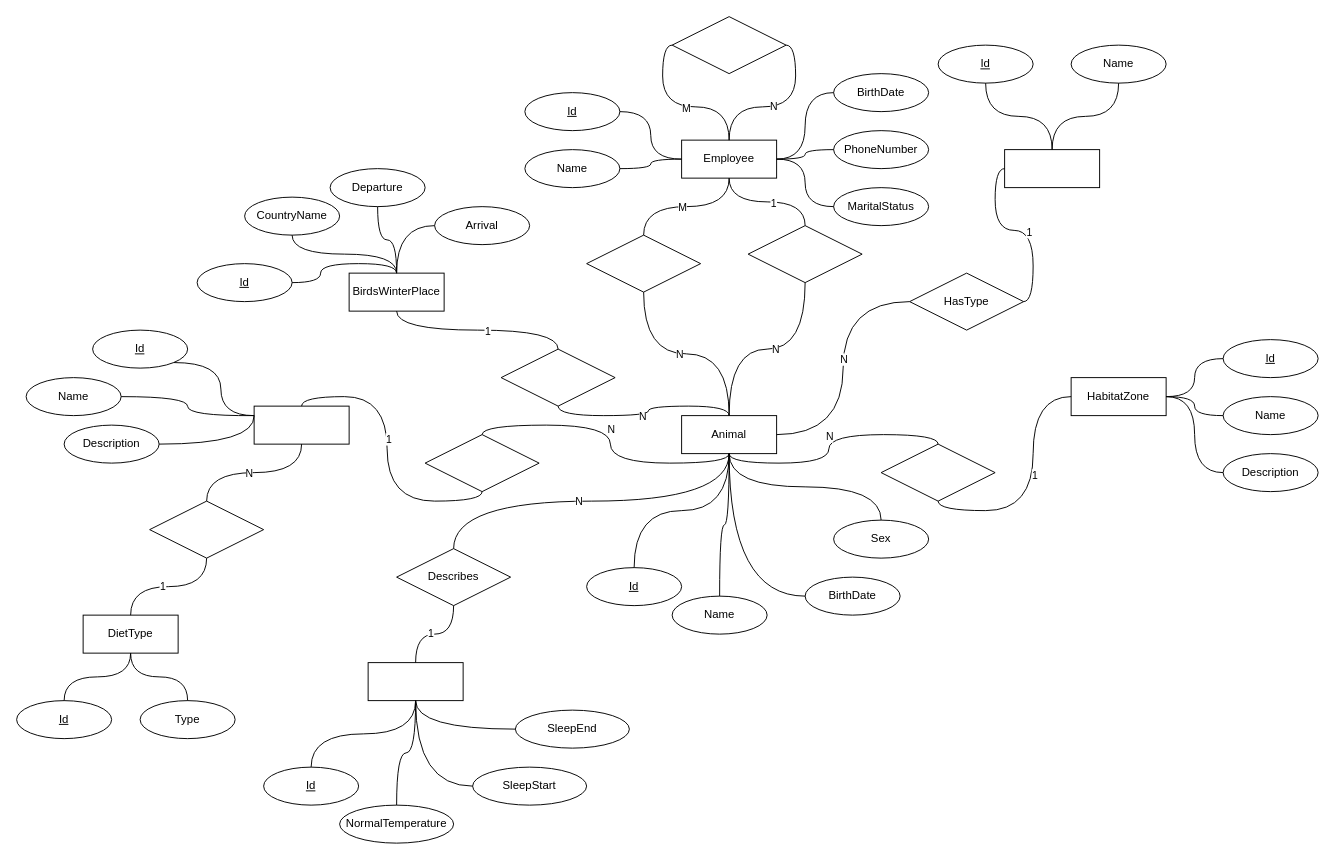
The diagram is 1335 pixels wide and 860 high, and some of its shapes have lost their labels. The centre of each missing label's shape, as x and y in pixels:
"AnimalType" belongs at point (1052, 168).
"CaresFor" belongs at point (804, 254).
"Diet" belongs at point (301, 424).
"Follows" belongs at point (481, 463).
"IsMarriedTo" belongs at point (728, 45).
"IsOfType" belongs at point (206, 529).
"IsTreatedBy" belongs at point (643, 263).
"LivesIn" belongs at point (937, 472).
"RetilesInfo" belongs at point (415, 681).
"WintersAt" belongs at point (557, 377).
